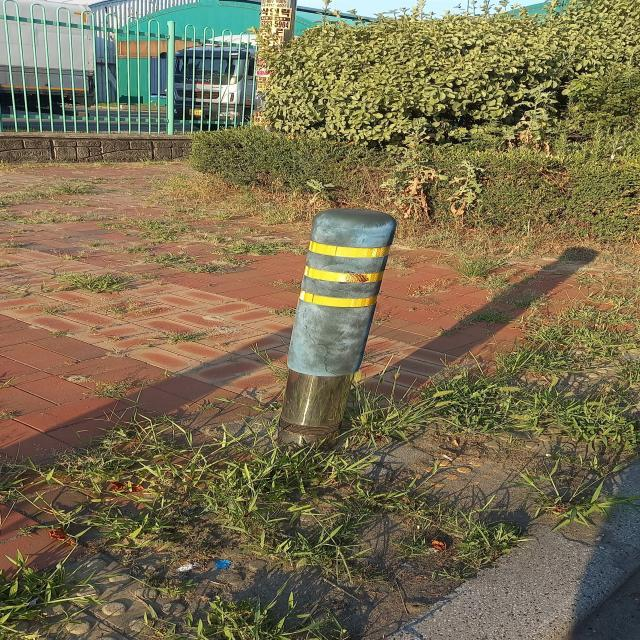pole: (276, 208, 396, 446)
